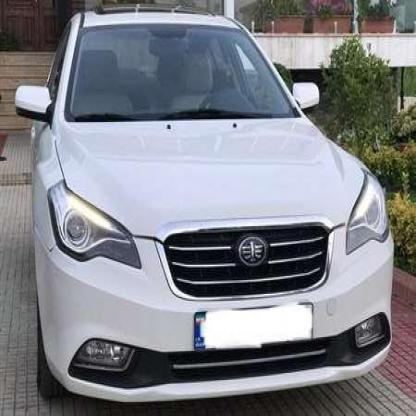Car: (30, 6, 394, 396)
